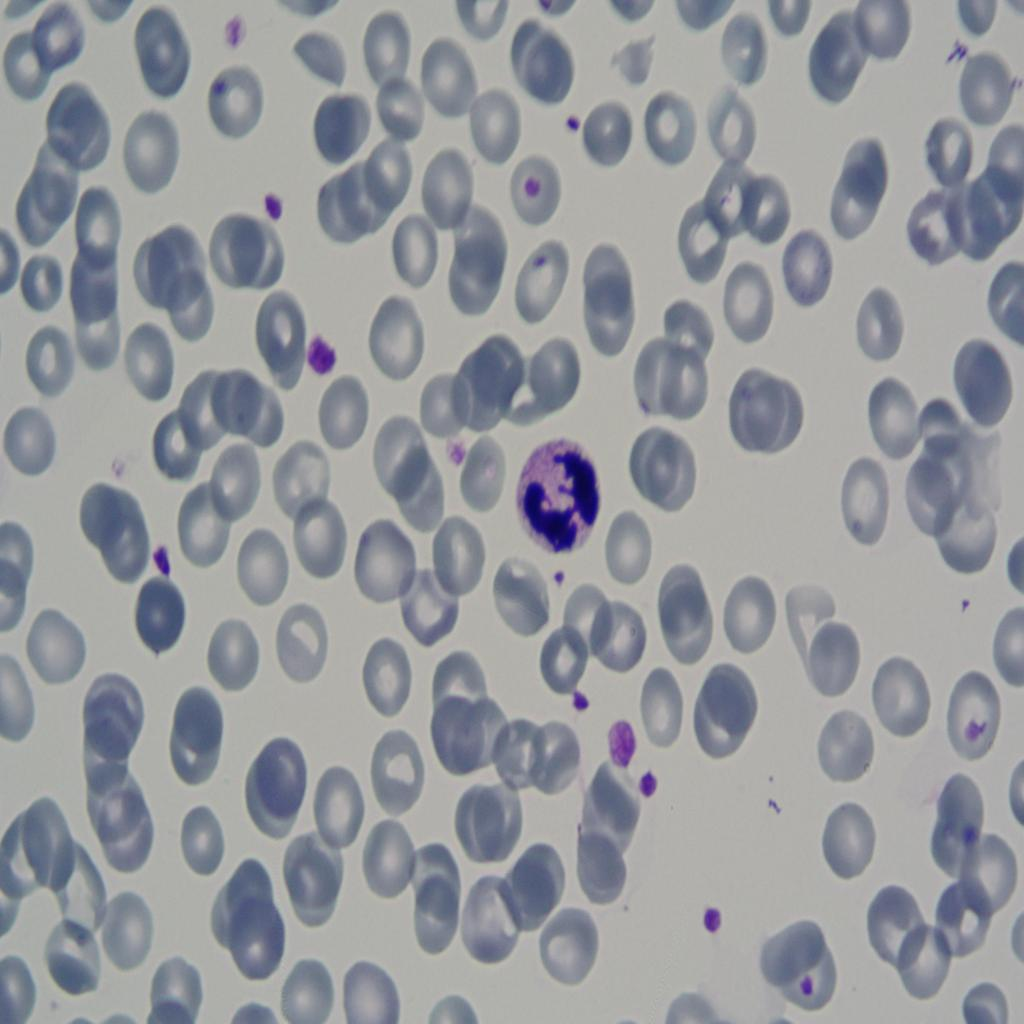Neutrofil: (516, 426, 601, 556)
Platelet: (302, 328, 344, 395), (601, 715, 640, 771), (703, 897, 730, 964), (213, 9, 253, 52), (516, 170, 556, 212), (256, 170, 289, 220), (559, 681, 594, 723), (551, 562, 581, 608), (148, 538, 172, 588), (558, 98, 581, 144), (446, 430, 468, 474), (638, 753, 655, 801), (798, 957, 815, 1003), (956, 580, 976, 619), (958, 813, 978, 845)
